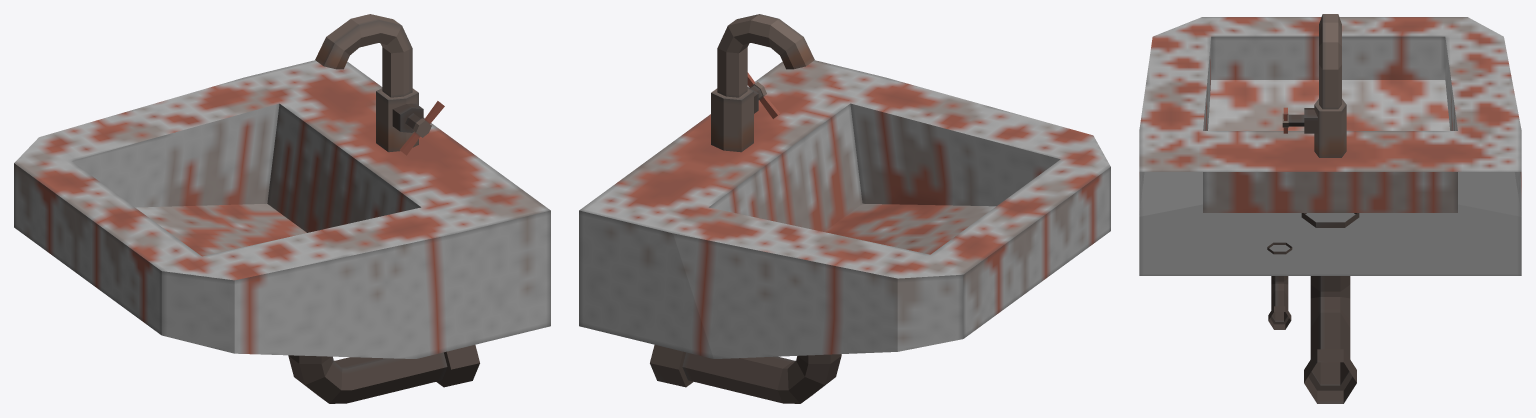
File: obj_washbasin.fbx
3 renders of one model, left to right at view 1: azimuth 30°, elevation 25°; view 2: azimuth 150°, elevation 25°; view 3: azimuth 270°, elevation 25°, orthographic. The views are drawn at different scales.
Visible parts, largest first — view 1: obj_washbasin; view 2: obj_washbasin; view 3: obj_washbasin.
Boxes of the visible parts, x1,y1,x2,y2 form: obj_washbasin: (14, 14, 550, 403); obj_washbasin: (579, 14, 1110, 403); obj_washbasin: (1139, 14, 1521, 403).
Size of the model in its own units: 50.85 by 49.29 by 50.
